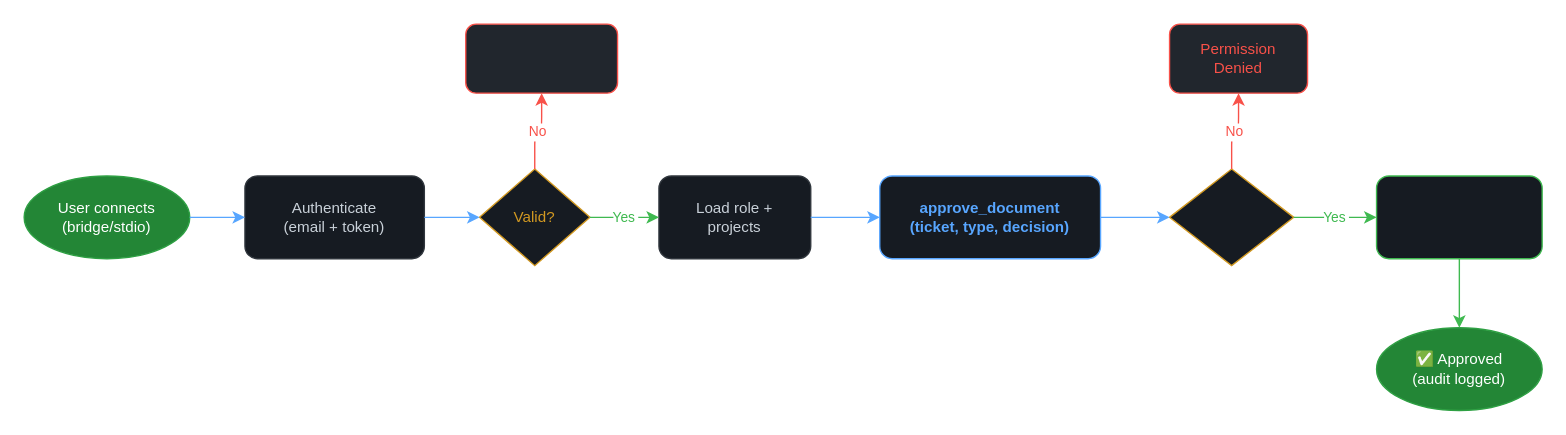
This 1566x435 diagram has some shape labels left out. The shapes that lost their labels are listed below. From the top down, each one's box as (x1, y1, x2, y2) in pixels, then its label:
(464, 23, 618, 93): Shared account (view-only)
(1168, 168, 1294, 266): Authorized?
(1375, 175, 1542, 259): Update doc Re-attach Jira Delete old
